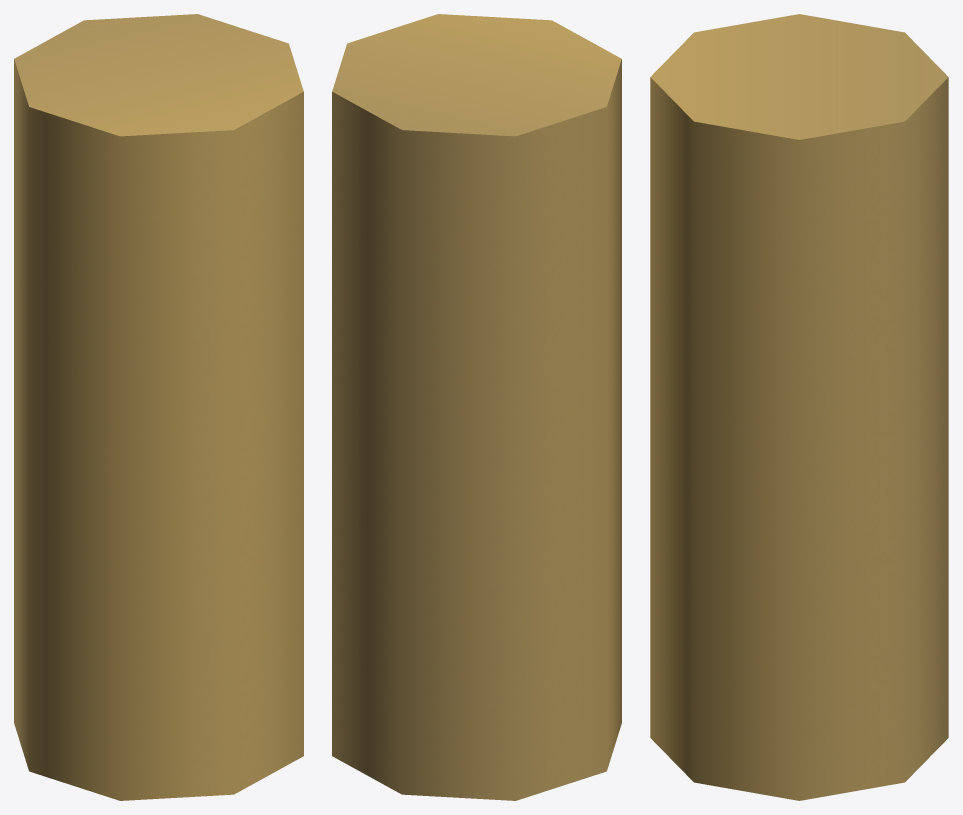
File: axle_ver.glb
3 views of the same model, side by side, from view 1: azimuth 30°, elevation 25°; view 2: azimuth 150°, elevation 25°; view 3: azimuth 270°, elevation 25° (orthographic).
Visible parts, largest first — view 1: AxleVer; view 2: AxleVer; view 3: AxleVer.
Boxes of the visible parts, box(x1,y1,x2,y2) form: AxleVer: box(14, 14, 303, 800); AxleVer: box(332, 14, 621, 800); AxleVer: box(650, 14, 948, 800).
Size of the model in its own units: 0.409 by 1 by 0.409.
1 material, 1 textured.
